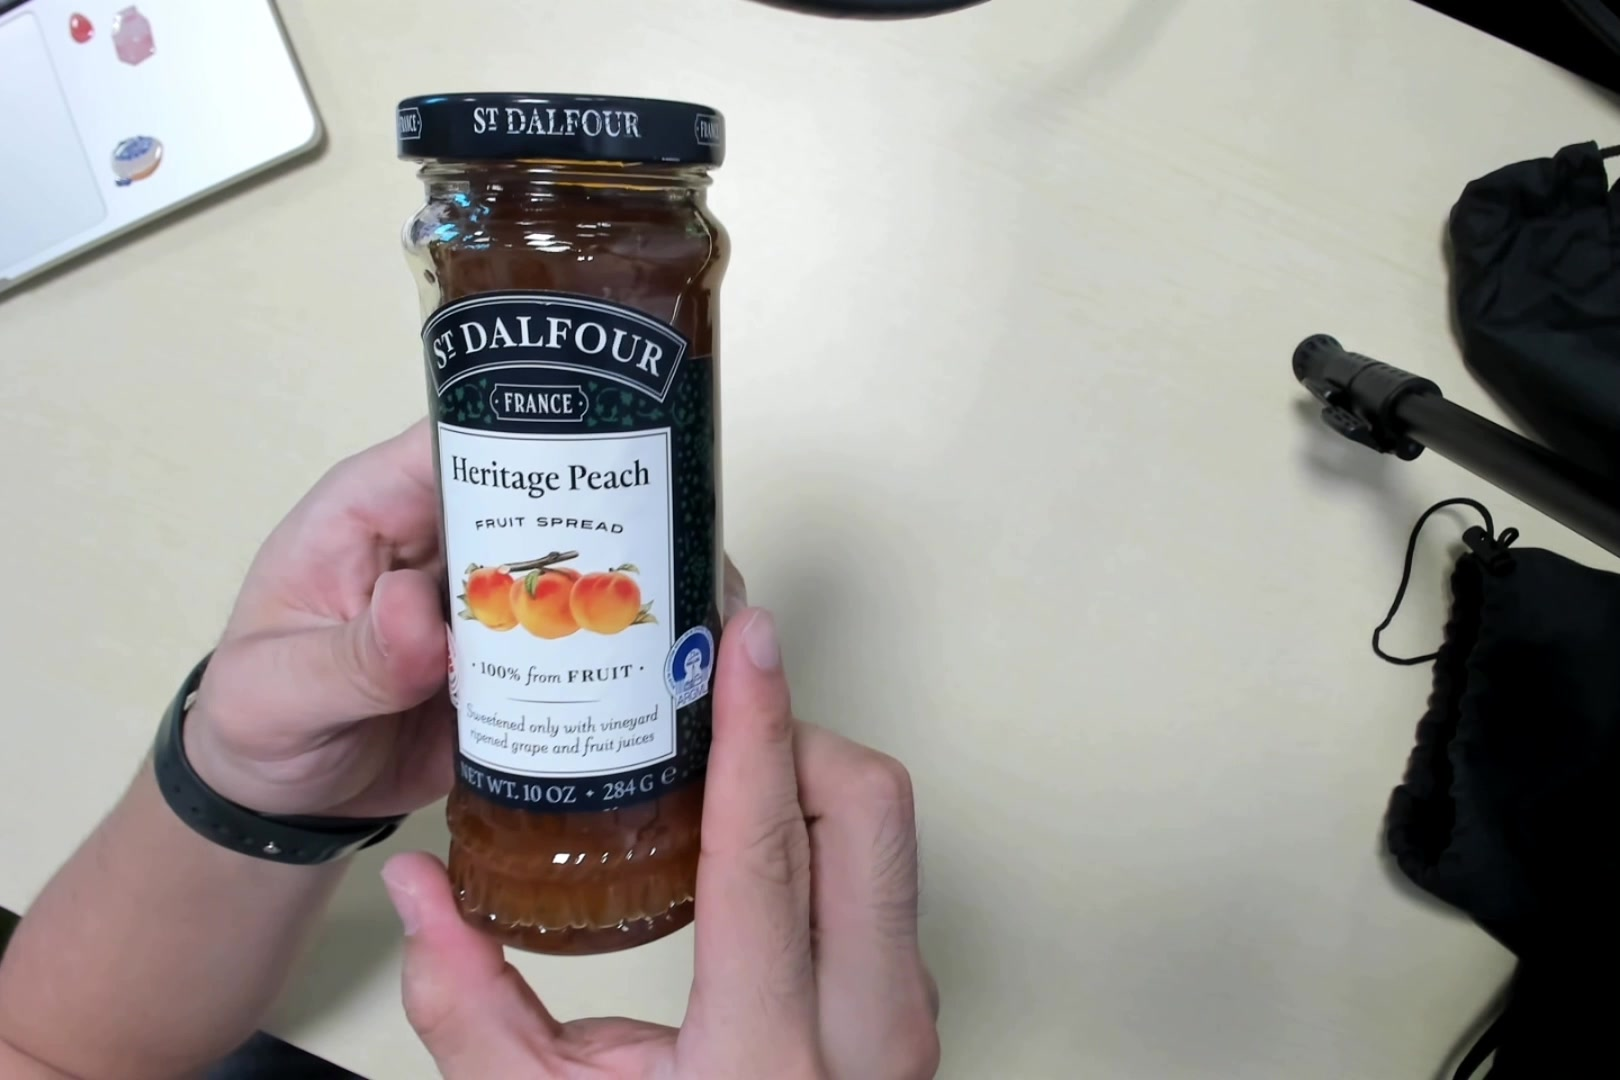Jam_200-299g_Halal_Healthy: (394, 86, 732, 949)
